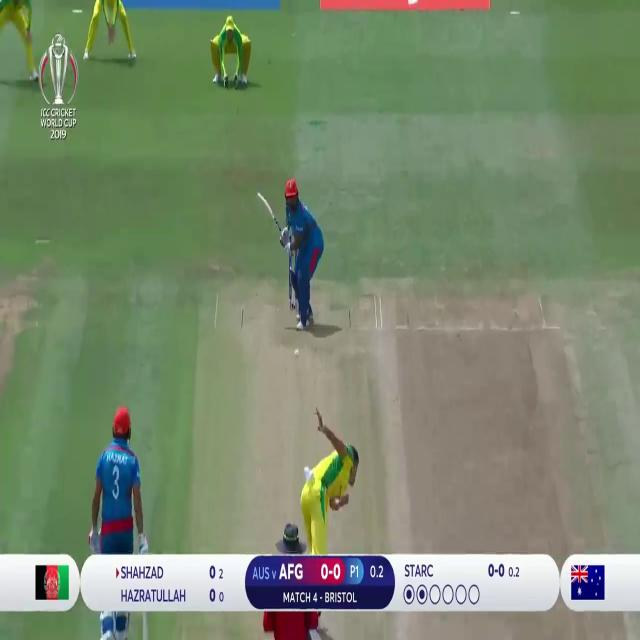ball: (294, 346, 300, 356)
